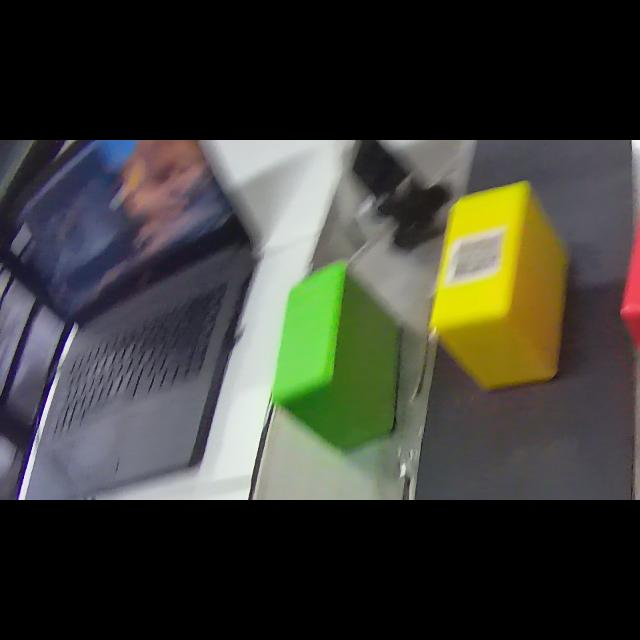greenBox: (272, 264, 403, 454)
redBox: (616, 168, 640, 388)
yellowBox: (427, 178, 571, 400)
